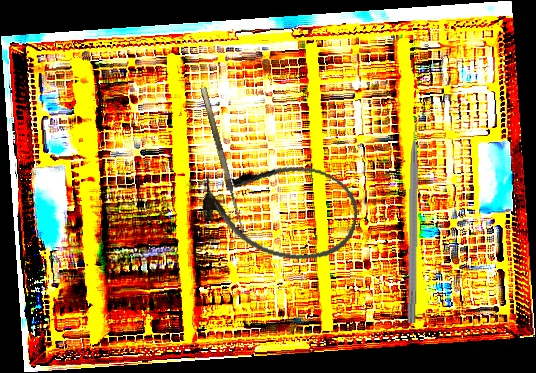Cannula: (195, 149, 365, 270)
Chopper: (407, 112, 431, 324)
Hook Surgical: (200, 84, 254, 238)
